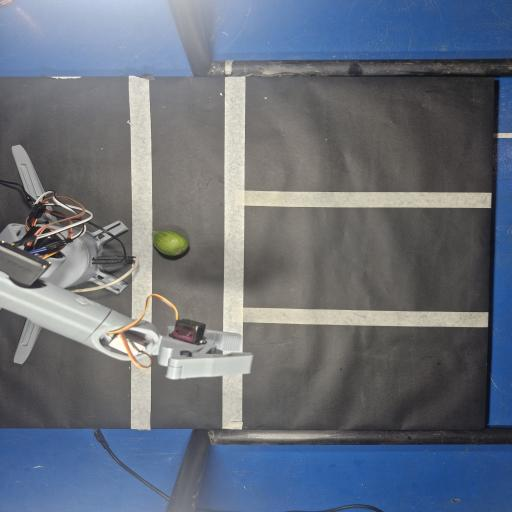higo: (152, 230, 188, 256)
